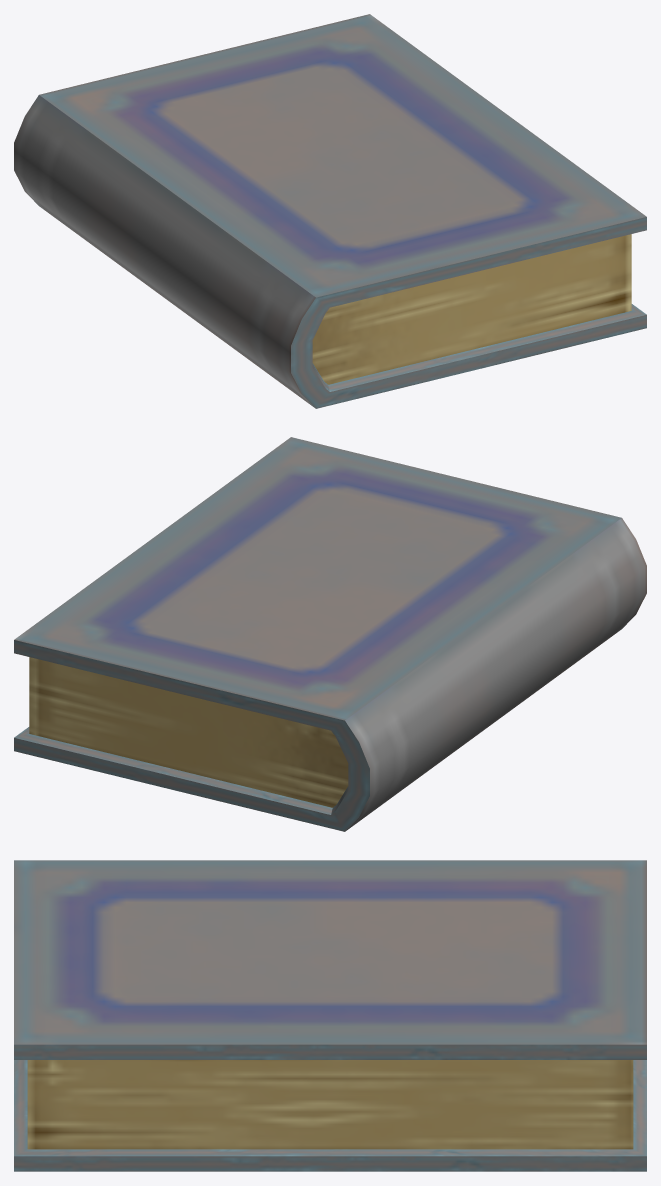
Rendered from book_5.glb.
The picture shows the model from 3 angles, top to bottom: view 1: azimuth 30°, elevation 25°; view 2: azimuth 150°, elevation 25°; view 3: azimuth 270°, elevation 25°; orthographic projection. The views are drawn at different scales.
Parts seen in each view (by area): view 1: Book_5; view 2: Book_5; view 3: Book_5.
Part boxes in pixels (x1,y1,x2,y2): Book_5: (14,14,646,408); Book_5: (14,437,646,831); Book_5: (14,860,646,1171).
Bounding box in the file's own units: 0.2129 × 0.0636 × 0.2871.
Materials: 1 (1 with a texture image).
